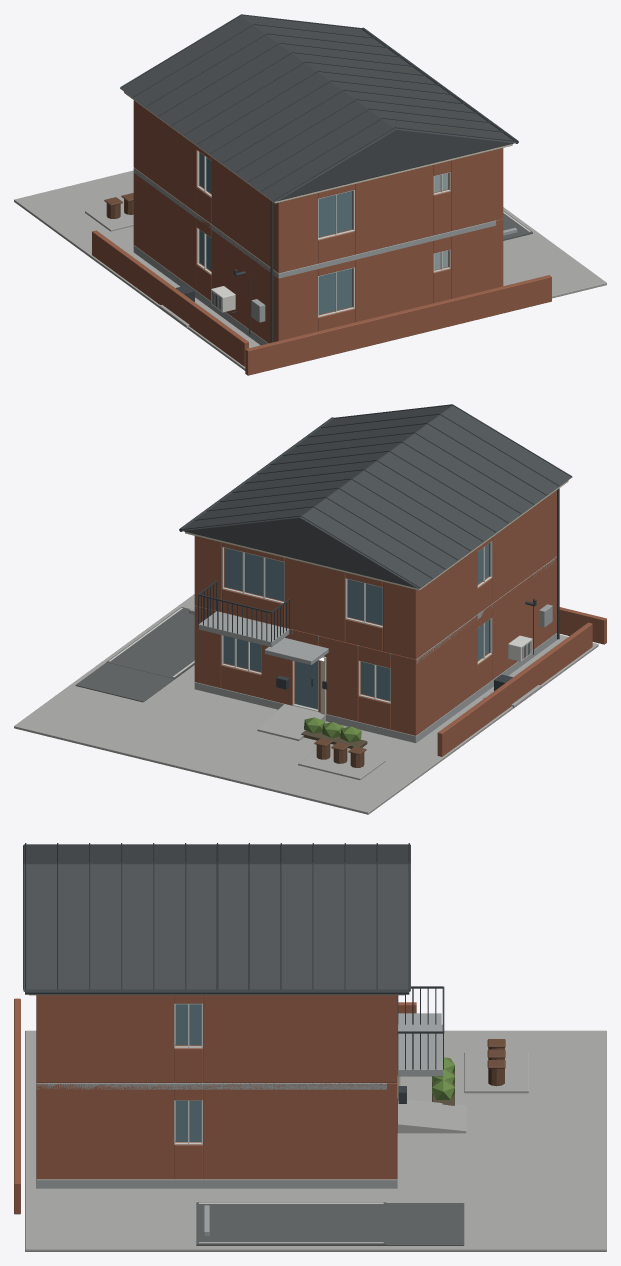
File: HOUSE_02_OLD_BRICK.fbx
The picture shows the model from 3 angles, top to bottom: view 1: azimuth 30°, elevation 25°; view 2: azimuth 150°, elevation 25°; view 3: azimuth 270°, elevation 25°; orthographic projection. The views are drawn at different scales.
Visible parts, largest first — view 1: UNITY_ASSET_HOUSE_02_OLD_BRICK; view 2: UNITY_ASSET_HOUSE_02_OLD_BRICK; view 3: UNITY_ASSET_HOUSE_02_OLD_BRICK.
Part boxes in pixels (x1,y1,x2,y2): UNITY_ASSET_HOUSE_02_OLD_BRICK: (14, 14, 606, 375); UNITY_ASSET_HOUSE_02_OLD_BRICK: (14, 404, 606, 814); UNITY_ASSET_HOUSE_02_OLD_BRICK: (14, 843, 606, 1251).
Bounding box in the file's own units: 13.75 × 7.57 × 15.59.
